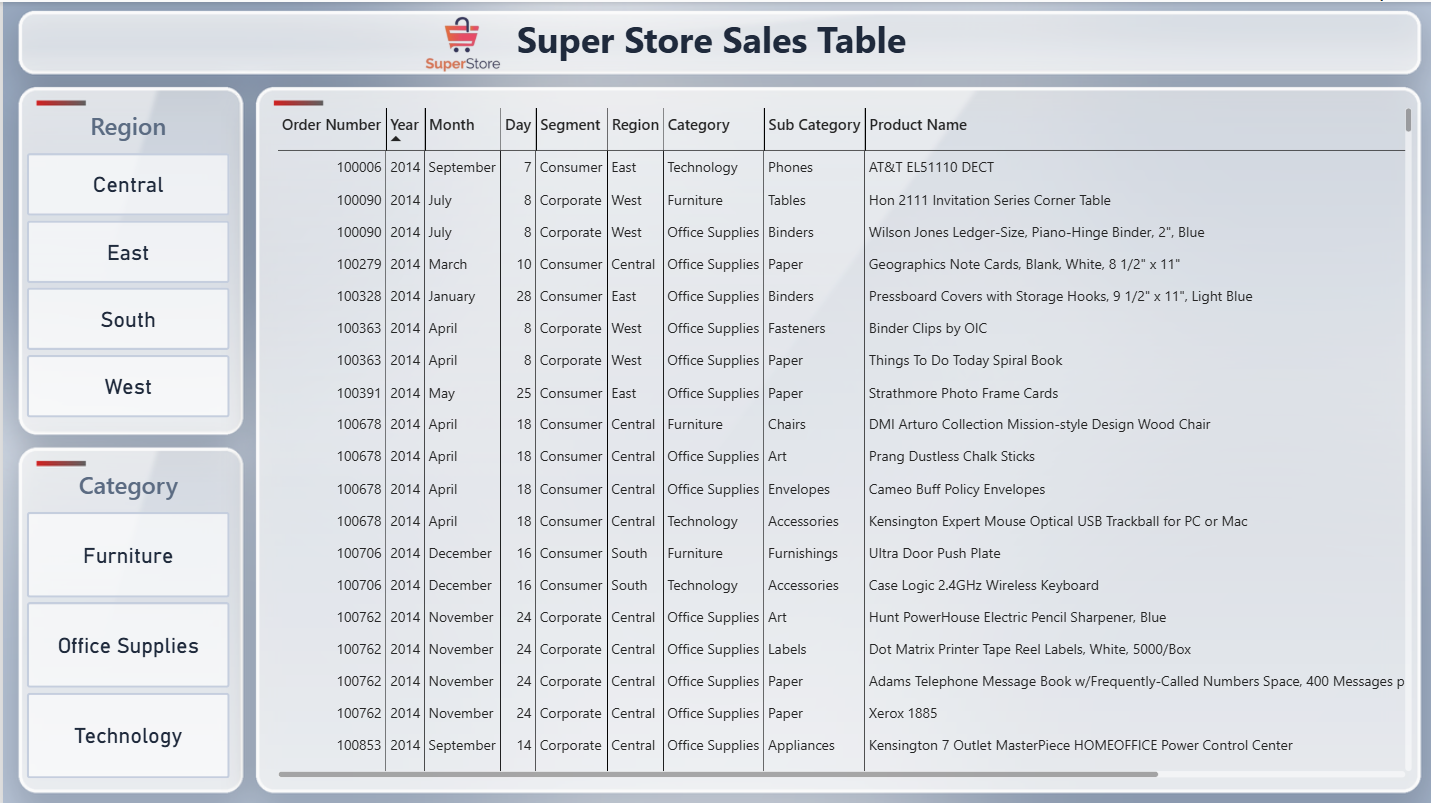

What the dashboard file says about the page in this screenshot:
{"tool":"powerbi","page":{"name":"Table","canvas":[1920,1080],"ordinal":1},"visuals":[{"type":"tableEx","fields":{"Values":["Sample - Superstore.Order Number","Sample - Superstore.Order Date.Variation.Date Hierarchy.Year","Sample - Superstore.Order Date.Variation.Date Hierarchy.Month","Sample - Superstore.Order Date.Variation.Date Hierarchy.Day","Sample - Superstore.Segment","Sample - Superstore.Region","Sample - Superstore.Category","Sample - Superstore.Sub Category","Sample - Superstore.Product Name","Sample - Superstore.Sales","Sample - Superstore.Quantity","Sample - Superstore.Discount"]},"box":[352,128,1552,928],"z":0},{"type":"group","id":"g1","title":"Group 5","box":[512,16,864,80],"z":1000},{"type":"advancedSlicerVisual","fields":{"Values":["Sample - Superstore.Region"]},"box":[32,144,272,416],"z":2000},{"type":"advancedSlicerVisual","fields":{"Values":["Sample - Superstore.Category"]},"box":[32,624,272,416],"z":3000},{"type":"textbox","box":[688,16,688,64],"z":4000,"group":"g1"},{"type":"image","box":[512,16,208,80],"z":9000,"group":"g1"}]}

Visuals, with their boxes in screenshot pixels (x1, y1, x2, y2), scaled from the page's 1920x1080 canvas onto the 1431x803 screenshot:
tableEx - Sample - Superstore.Order Number x Sample - Superstore.Order Date.Variation.Date Hierarchy.Year: {"left": 262, "top": 95, "right": 1419, "bottom": 785}
"Group 5" group: {"left": 382, "top": 12, "right": 1026, "bottom": 71}
advancedSlicerVisual - Sample - Superstore.Region: {"left": 24, "top": 107, "right": 227, "bottom": 416}
advancedSlicerVisual - Sample - Superstore.Category: {"left": 24, "top": 464, "right": 227, "bottom": 773}
textbox: {"left": 513, "top": 12, "right": 1026, "bottom": 59}
image: {"left": 382, "top": 12, "right": 537, "bottom": 71}
